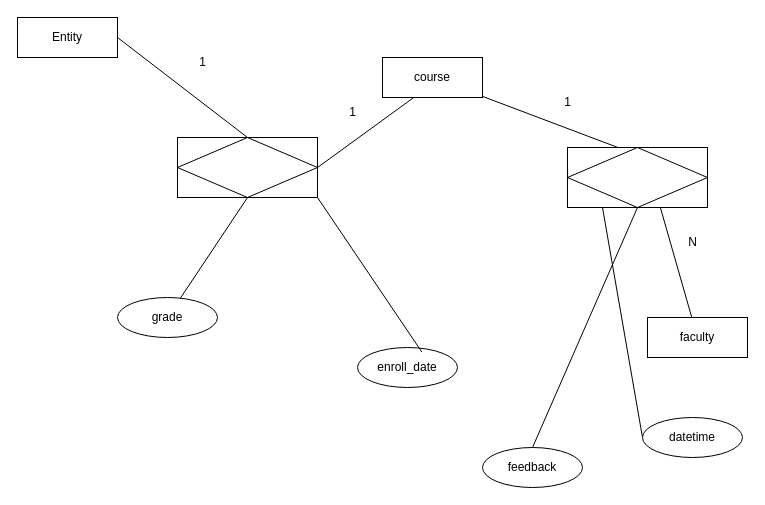
Some shapes in this 765 by 505 pixel diagram are drawn without their labels. The centre of each missing label's shape, as x and y in pixels:
enrollments: (x=247, y=167)
staff_course _mapping: (x=637, y=177)
